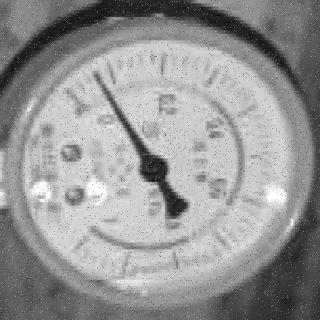gauge: (0, 3, 320, 313), (78, 212, 111, 250), (60, 77, 88, 115), (138, 155, 170, 183), (88, 66, 102, 84)
